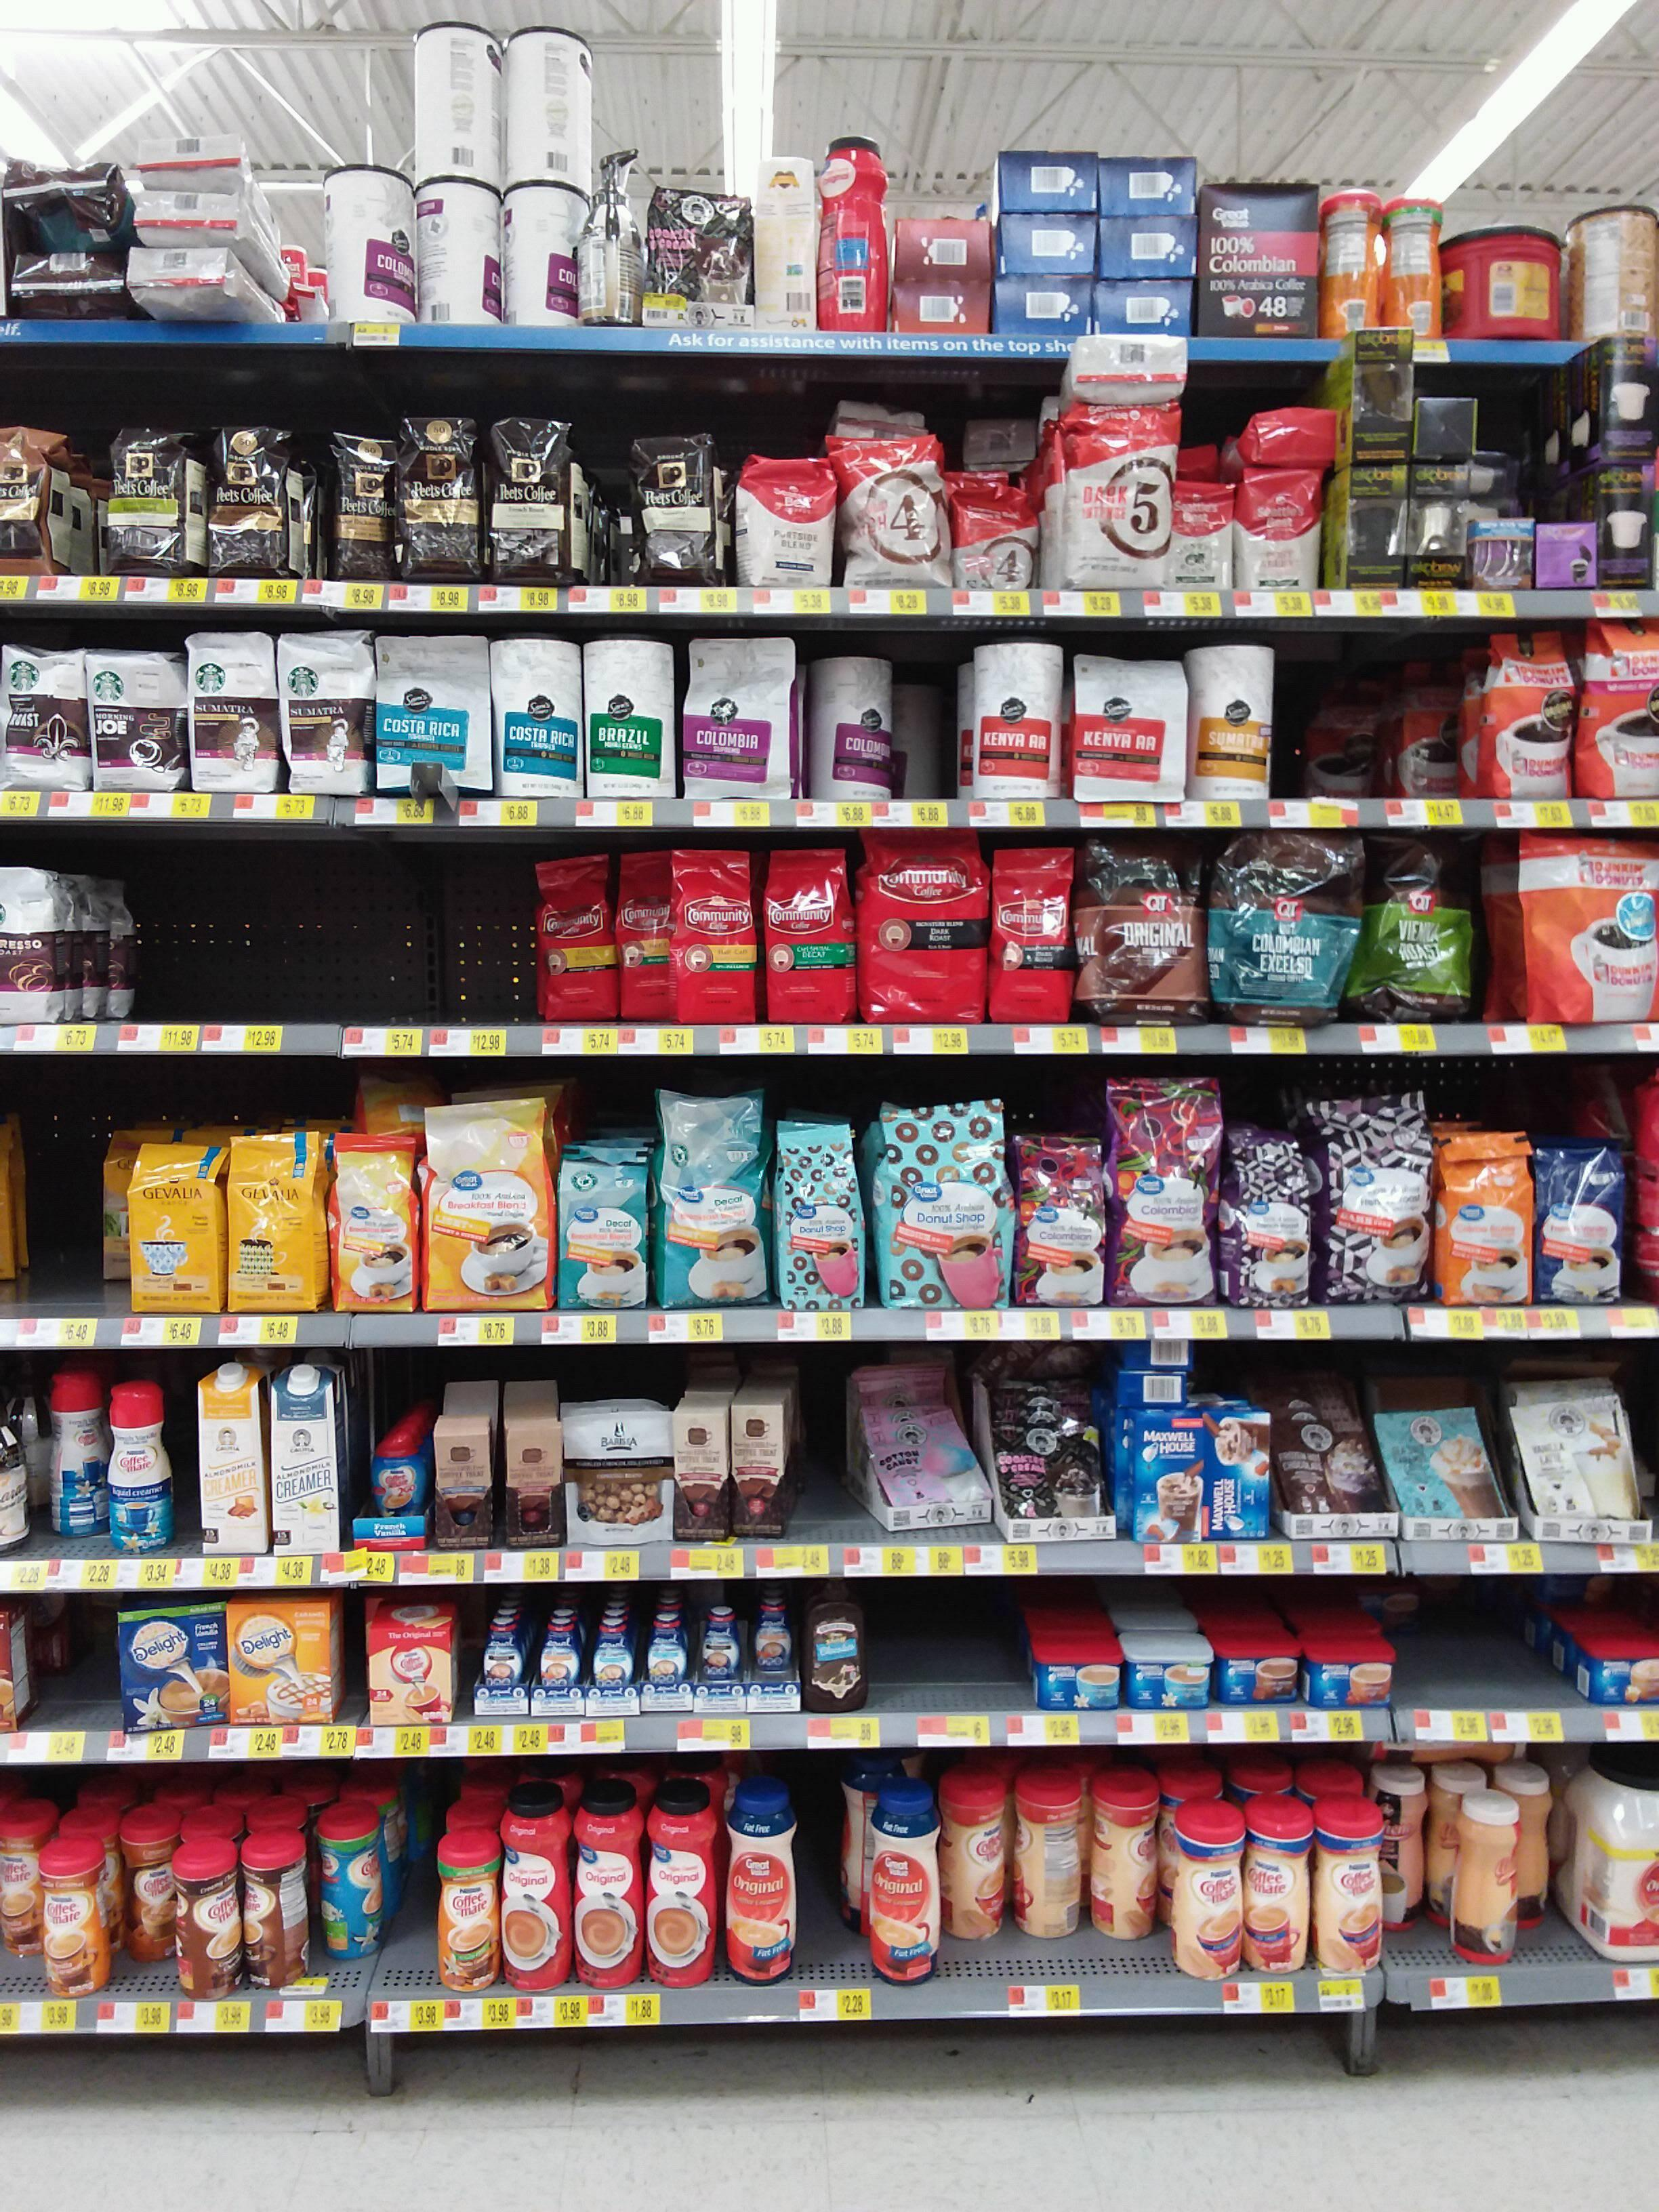empty: (1279, 658, 1410, 796), (119, 878, 225, 1024), (228, 874, 335, 1021), (10, 1122, 98, 1298), (1037, 1846, 1152, 1975), (338, 878, 427, 1024), (432, 878, 521, 1024), (1382, 1834, 1467, 1975), (1506, 1825, 1589, 1968), (28, 1606, 113, 1738), (945, 1848, 1030, 1979), (793, 1811, 852, 1986), (375, 1820, 434, 1994), (890, 664, 964, 803), (1476, 1585, 1553, 1709), (863, 1585, 938, 1709), (939, 1588, 1014, 1712), (1398, 1588, 1473, 1712), (105, 1876, 179, 1993), (0, 1874, 56, 2005)
